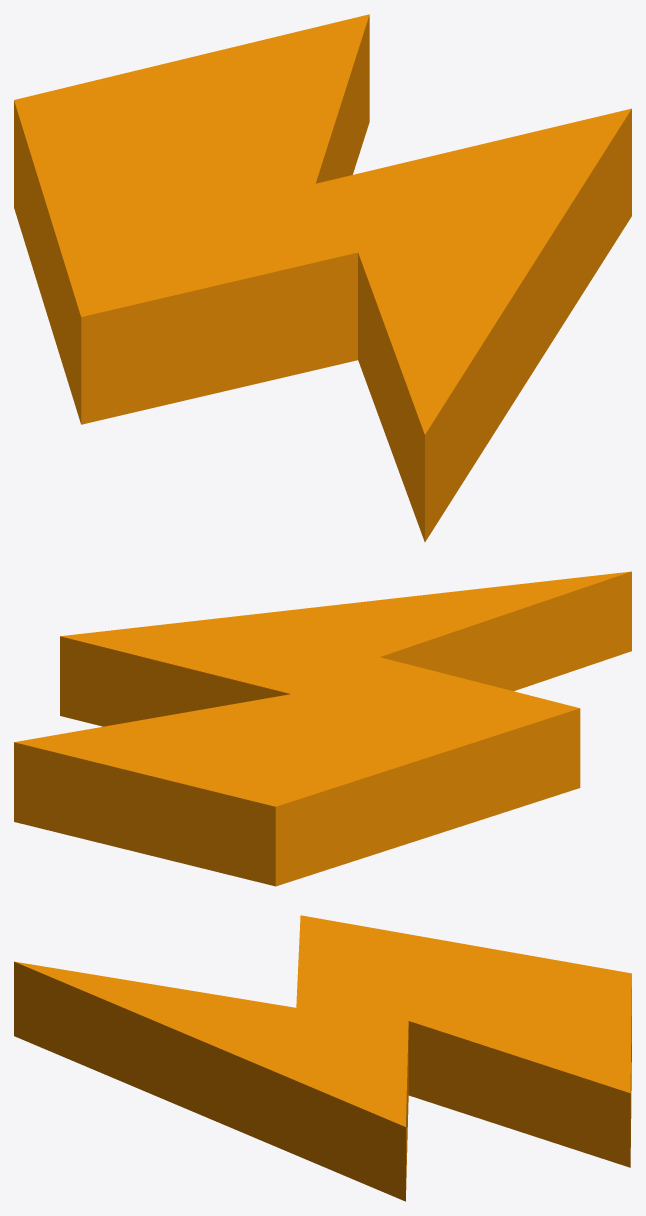
Rendered from powerup.fbx.
3 views of the same model, one above another, from view 1: azimuth 30°, elevation 25°; view 2: azimuth 150°, elevation 25°; view 3: azimuth 270°, elevation 25° (orthographic). The views are drawn at different scales.
Visible parts, largest first — view 1: powerup; view 2: powerup; view 3: powerup.
Boxes of the visible parts, x1=… form: powerup: x1=14, y1=14, x2=631, y2=541; powerup: x1=14, y1=571, x2=631, y2=886; powerup: x1=14, y1=915, x2=631, y2=1201.
Size of the model in its own units: 299 by 49 by 368.
